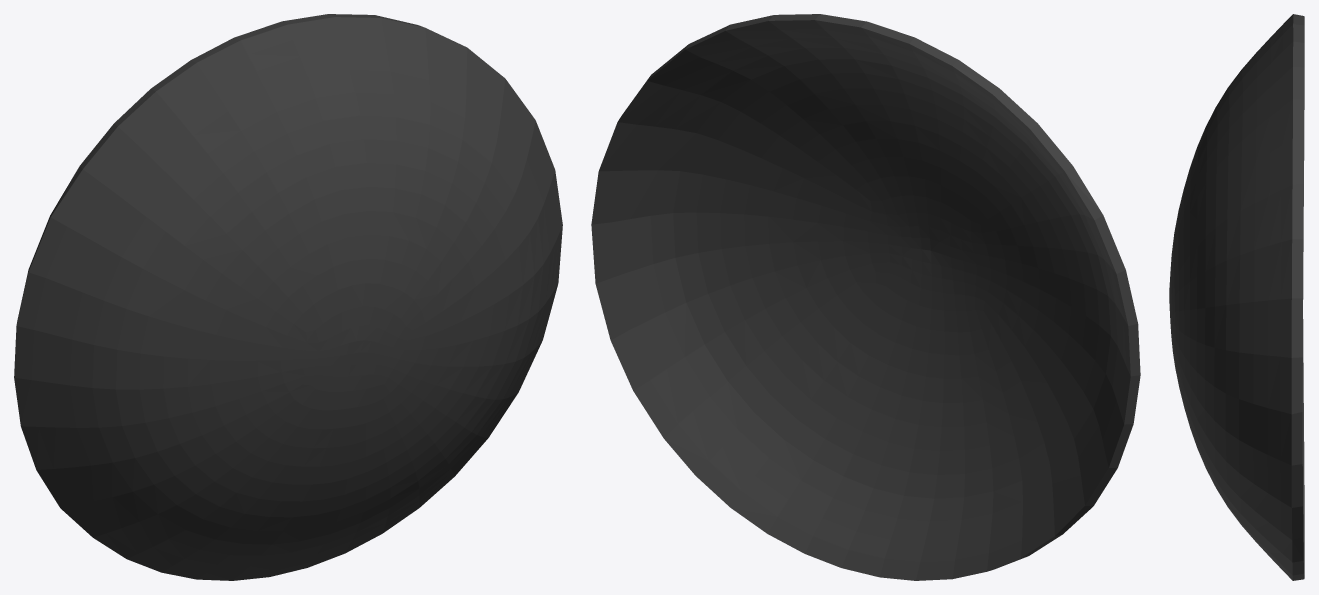
File: Cornea.glb
The picture shows the model from 3 angles, left to right: view 1: azimuth 30°, elevation 25°; view 2: azimuth 150°, elevation 25°; view 3: azimuth 270°, elevation 25°; orthographic projection. The views are drawn at different scales.
Visible parts, largest first — view 1: Cornea; view 2: Cornea; view 3: Cornea.
Boxes of the visible parts, left/top/right/bottom form: Cornea: left=14, top=14, right=562, bottom=580; Cornea: left=591, top=14, right=1140, bottom=580; Cornea: left=1169, top=14, right=1304, bottom=580.
Size of the model in its own units: 1.42 by 1.36 by 0.3277.
1 material, 1 textured.
